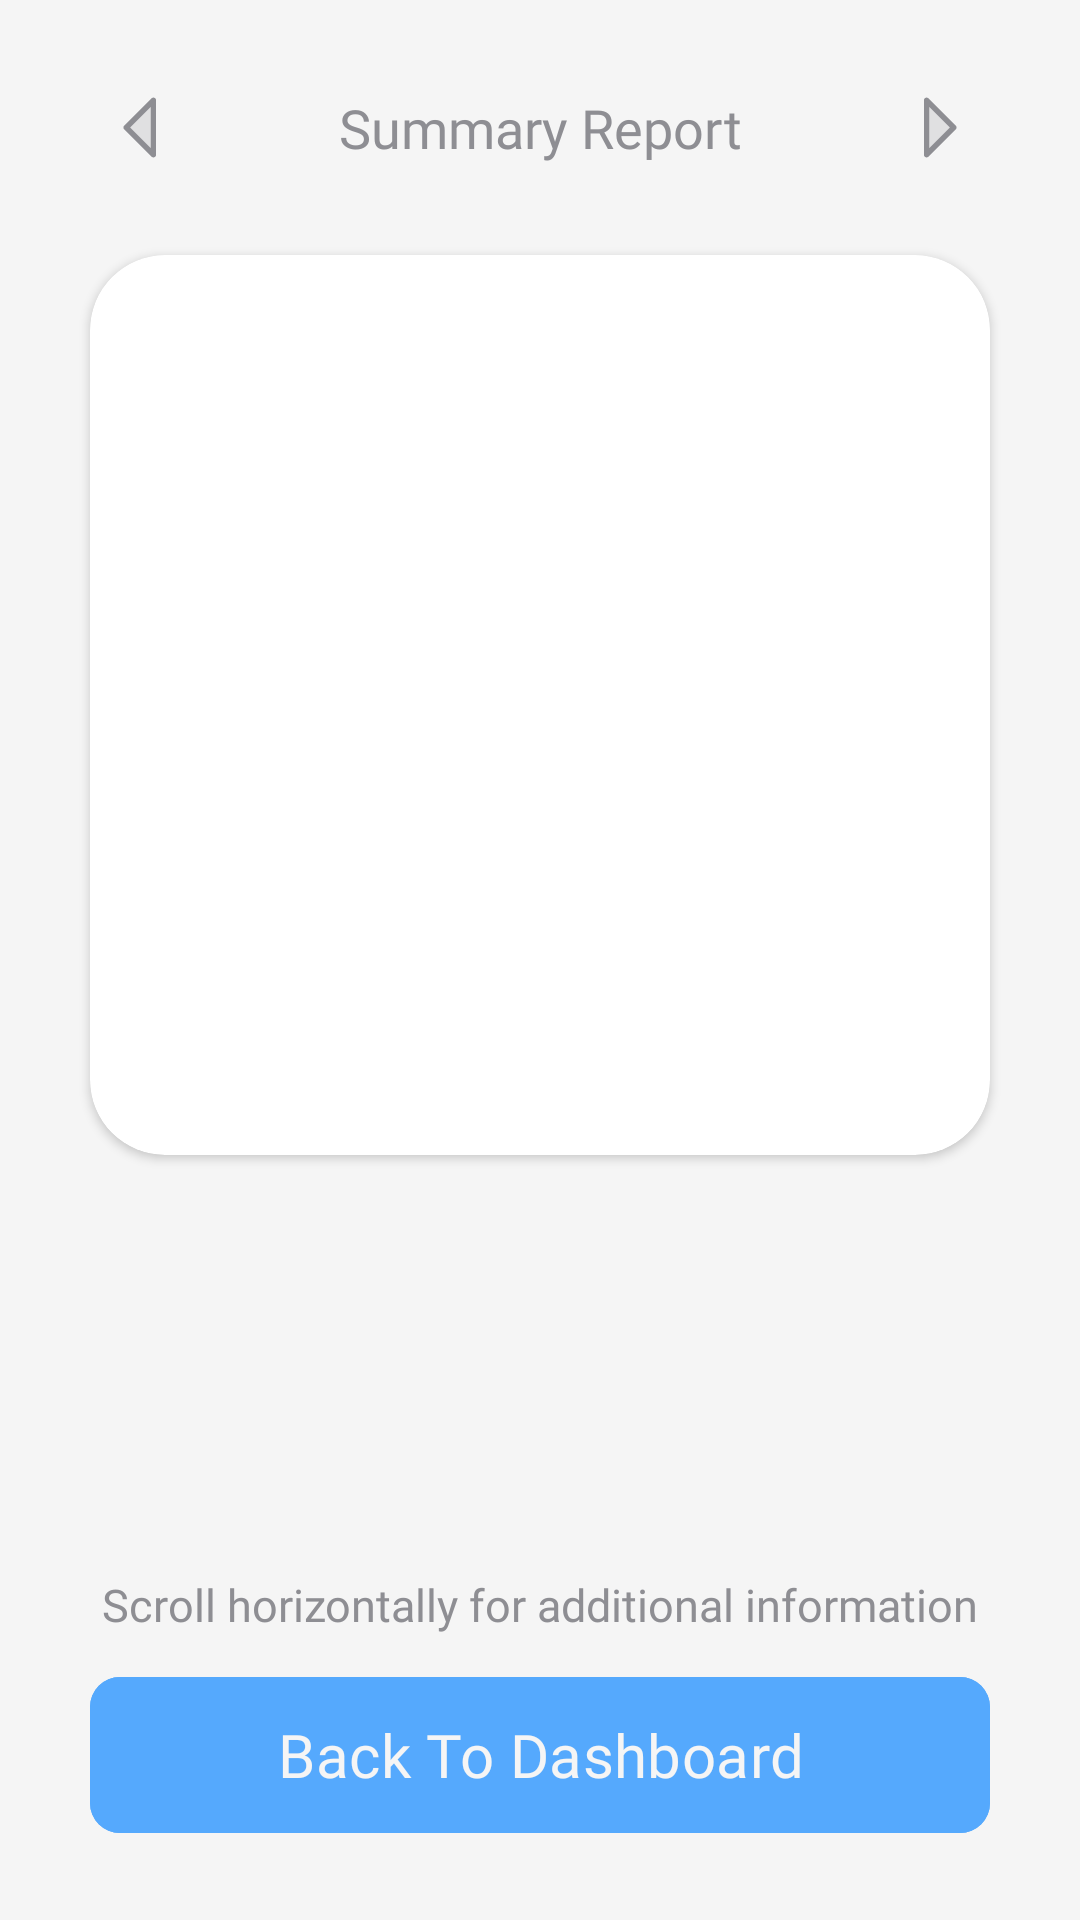

Icons on this 1080px x 1920px Android screen, each with its box as rect(x1, y1, x2, y2):
arrow left: rect(123, 97, 156, 158)
arrow right: rect(924, 97, 957, 158)
